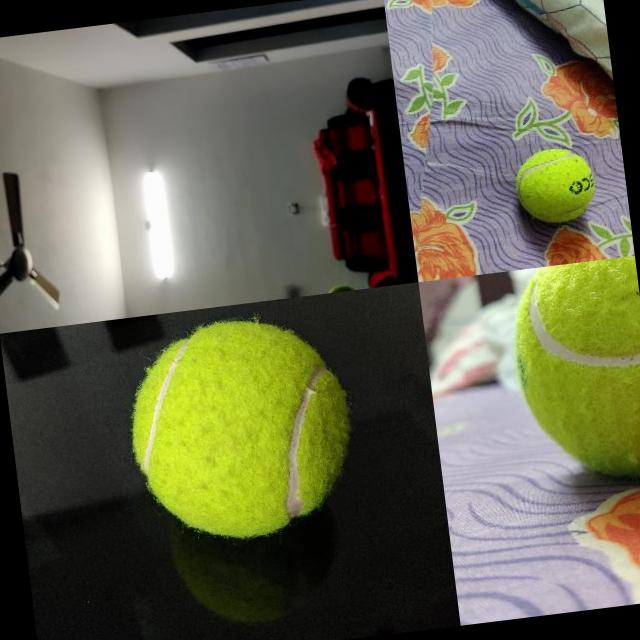Tennis Ball: (116, 304, 362, 550), (503, 255, 640, 490), (511, 144, 599, 228)
